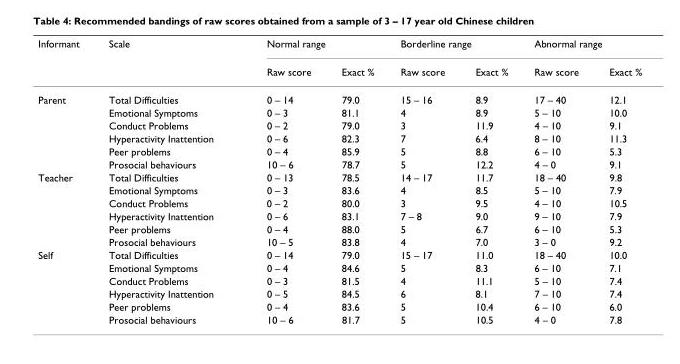table: (37, 37, 641, 325)
table column: (93, 37, 239, 325), (239, 37, 325, 325), (386, 37, 459, 325), (520, 37, 593, 325), (325, 37, 386, 325), (459, 37, 520, 325), (37, 37, 93, 325), (593, 37, 641, 325)
table column header: (37, 37, 641, 85)
table row: (37, 57, 641, 85), (37, 37, 641, 57), (37, 85, 641, 105), (37, 105, 641, 118), (37, 118, 641, 131), (37, 131, 641, 144), (37, 144, 641, 157), (37, 157, 641, 170), (37, 170, 641, 183), (37, 183, 641, 196), (37, 196, 641, 209), (37, 209, 641, 222), (37, 222, 641, 235), (37, 235, 641, 248), (37, 248, 641, 261), (37, 273, 641, 286), (37, 286, 641, 299), (37, 299, 641, 312), (37, 312, 641, 325), (37, 261, 641, 273)
table spanning cell: (93, 37, 239, 85), (37, 85, 93, 170), (37, 170, 93, 248), (37, 248, 93, 325), (239, 37, 386, 57), (37, 37, 93, 85), (386, 37, 520, 57), (520, 37, 641, 57)
